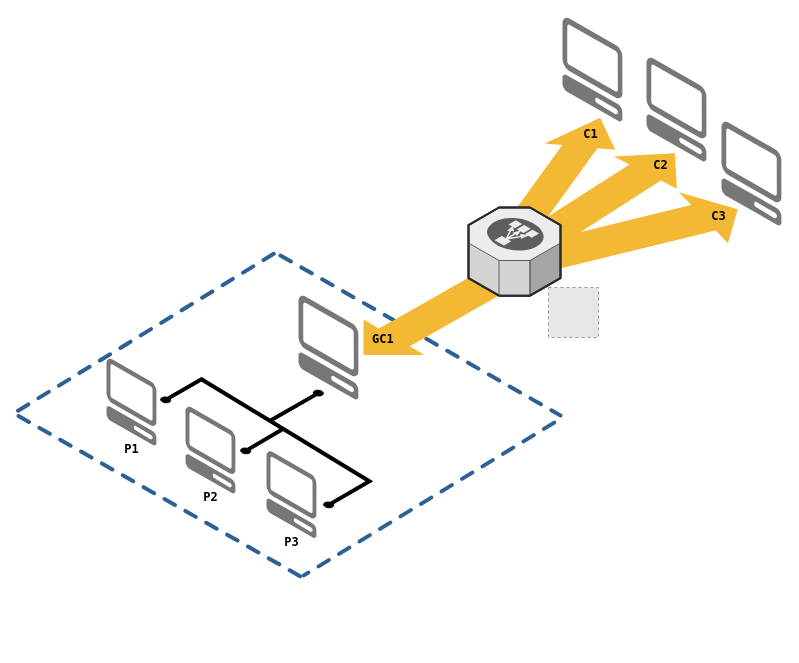
The diagram is 799 pixels wide and 663 high, and some of its shapes have lost their labels. Grey dashed boxes stand in for pictures. The box of each missing label's shape, as (x1, y1, x2, y2) in pixels:
GC1's Private Subnet: (303, 351, 554, 646)
OpenVPN server: (468, 206, 560, 296)
